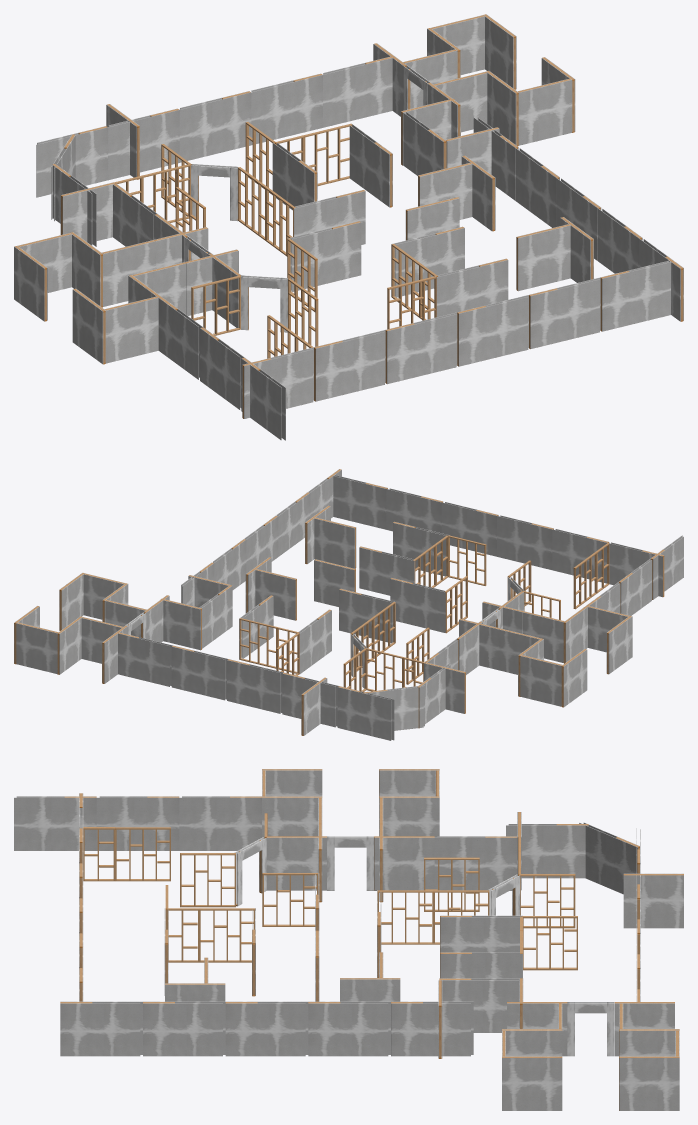
The model's file is Construct_Level_v2.fbx.
The picture shows the model from 3 angles, top to bottom: view 1: azimuth 30°, elevation 25°; view 2: azimuth 150°, elevation 25°; view 3: azimuth 270°, elevation 25°; orthographic projection. The views are drawn at different scales.
Parts seen in each view (by area): view 1: Wall_End12, Wall_End14, Wall_End11, Wall_End31, Wall_End13, Wall_End20, Wall_End18, Wall_End19, Wall_End25, Wall_End21, Wall_End26, Wall_DoubleEnd22 (+61 smaller); view 2: Wall_End22, Wall_End19, Wall_End20, Wall_End12, Wall_End13, Wall_End18, Wall_End25, Wall_End11, Wall_End31, Wall_End8, Wall_End27, Wall_End14 (+58 smaller); view 3: Wall_End28, Wall_End15, Wall_End30, Wall_End29, Wall_End16, Wall_End35, Wall_End33, Wall_End34, Wall_End9, Wall_End24, Wall_DoubleEnd41, Wall_DoubleEnd32 (+32 smaller).
Boxes of the visible parts, x1=… form: Wall_End12: x1=385, y1=312, x2=457, y2=384; Wall_End14: x1=529, y1=277, x2=600, y2=349; Wall_End11: x1=457, y1=295, x2=528, y2=366; Wall_End31: x1=314, y1=330, x2=385, y2=401; Wall_End13: x1=600, y1=260, x2=670, y2=331; Wall_End20: x1=179, y1=91, x2=251, y2=162; Wall_End18: x1=323, y1=56, x2=392, y2=127; Wall_End19: x1=251, y1=73, x2=322, y2=145; Wall_End25: x1=287, y1=221, x2=361, y2=291; Wall_End21: x1=108, y1=108, x2=179, y2=180; Wall_End26: x1=436, y1=258, x2=508, y2=316; Wall_DoubleEnd22: x1=516, y1=224, x2=570, y2=291; Wall_End22: x1=337, y1=686, x2=394, y2=740; Wall_End19: x1=171, y1=645, x2=227, y2=700; Wall_End20: x1=227, y1=659, x2=283, y2=713; Wall_End12: x1=497, y1=515, x2=553, y2=569; Wall_End13: x1=333, y1=475, x2=387, y2=529; Wall_End18: x1=118, y1=632, x2=172, y2=686; Wall_End25: x1=390, y1=578, x2=445, y2=632; Wall_End11: x1=441, y1=502, x2=498, y2=556; Wall_End31: x1=552, y1=529, x2=609, y2=583; Wall_End8: x1=339, y1=588, x2=395, y2=643; Wall_End27: x1=359, y1=546, x2=414, y2=595; Wall_End14: x1=386, y1=488, x2=443, y2=532; Wall_End28: x1=225, y1=1001, x2=308, y2=1056; Wall_End15: x1=308, y1=1001, x2=390, y2=1056; Wall_End30: x1=60, y1=1001, x2=142, y2=1056; Wall_End29: x1=143, y1=1001, x2=225, y2=1056; Wall_End16: x1=391, y1=1001, x2=473, y2=1056; Wall_End35: x1=179, y1=796, x2=261, y2=850; Wall_End33: x1=14, y1=796, x2=96, y2=850; Wall_End34: x1=96, y1=796, x2=179, y2=850; Wall_End9: x1=434, y1=836, x2=517, y2=890; Wall_End24: x1=506, y1=824, x2=588, y2=878; Wall_DoubleEnd41: x1=502, y1=1056, x2=562, y2=1110; Wall_DoubleEnd32: x1=619, y1=1056, x2=679, y2=1110.
Size of the model in its own units: 48.97 by 4.2 by 47.96.
